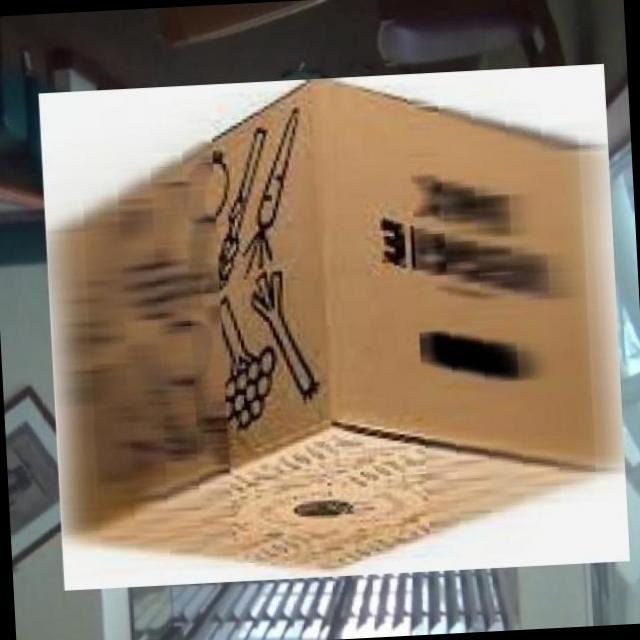box: (28, 56, 639, 598)
